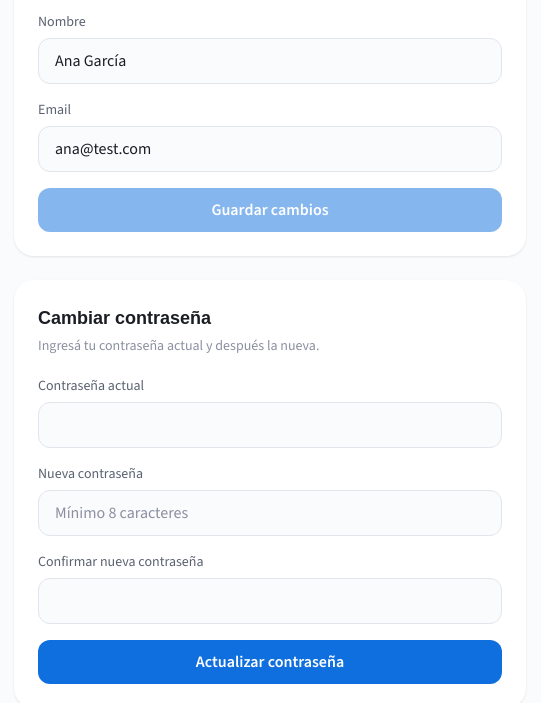
Scenario: Settings — cambiar contraseña › muestra error si la nueva contraseña tiene menos de 8 caracteres
The image size is (541, 703).
(page scrolled)
Type "actual123" into the password field labelled "Contraseña actual" at {"x": 270, "y": 425}, box [38, 402, 502, 448]
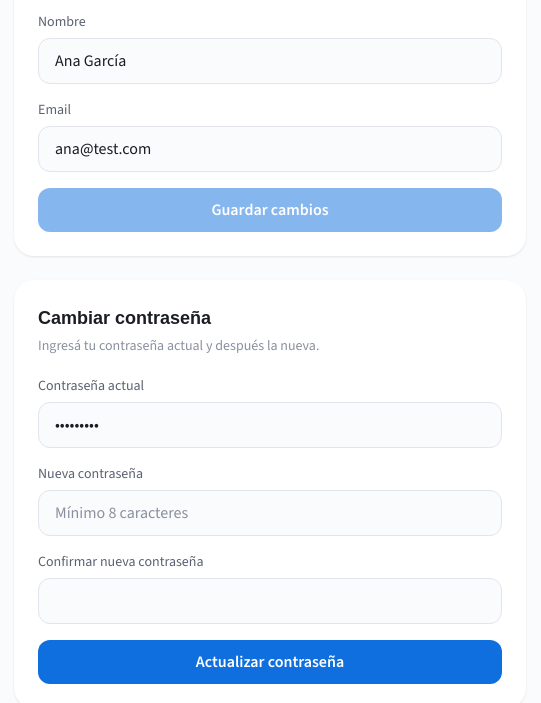
Type "corta" into the password field labelled "Nueva contraseña" at {"x": 270, "y": 513}, box [38, 490, 502, 536]
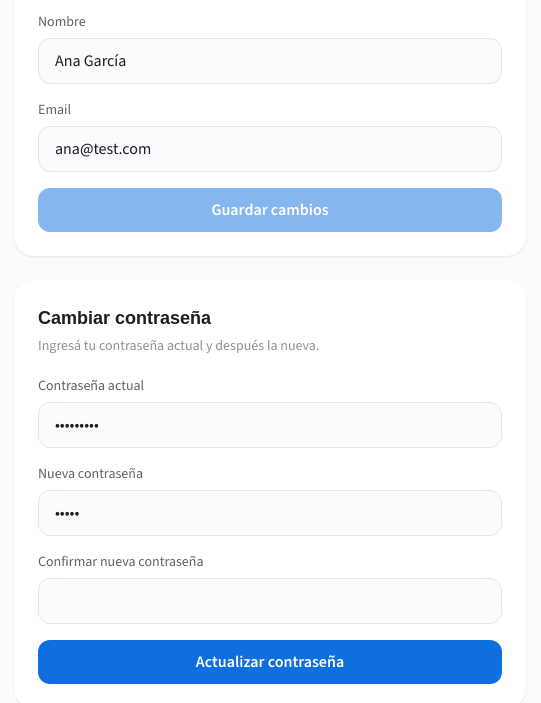
Type "corta" into the password field labelled "Confirmar nueva contraseña" at {"x": 270, "y": 601}, box [38, 578, 502, 624]
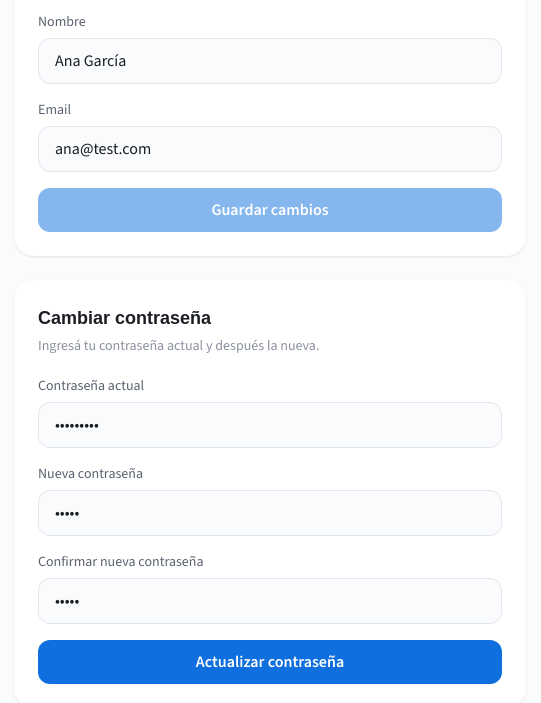
Submit the form labelled "Nueva contraseña", box [38, 376, 502, 684]
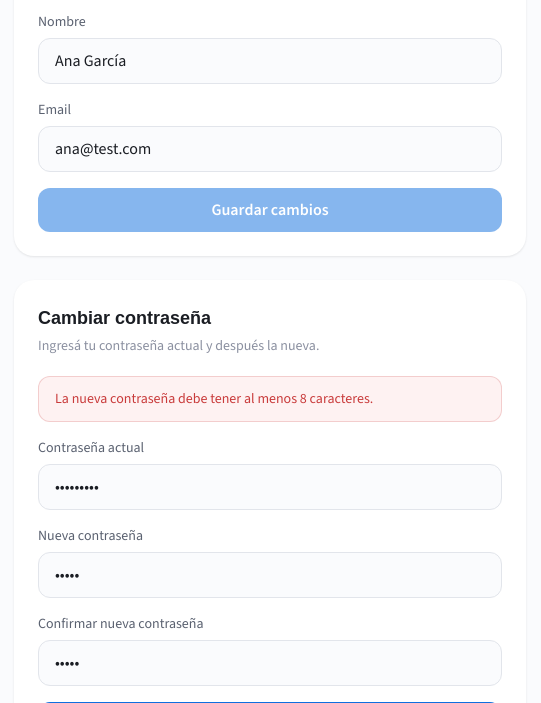
Now the message reads "La nueva contraseña debe tener al menos 8 caracteres.", box [55, 389, 373, 408]
